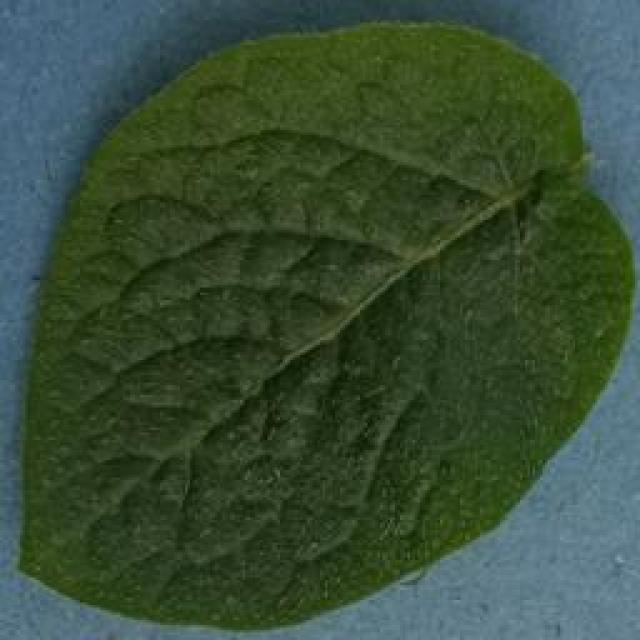Potato_Healthy: (17, 21, 629, 630)
